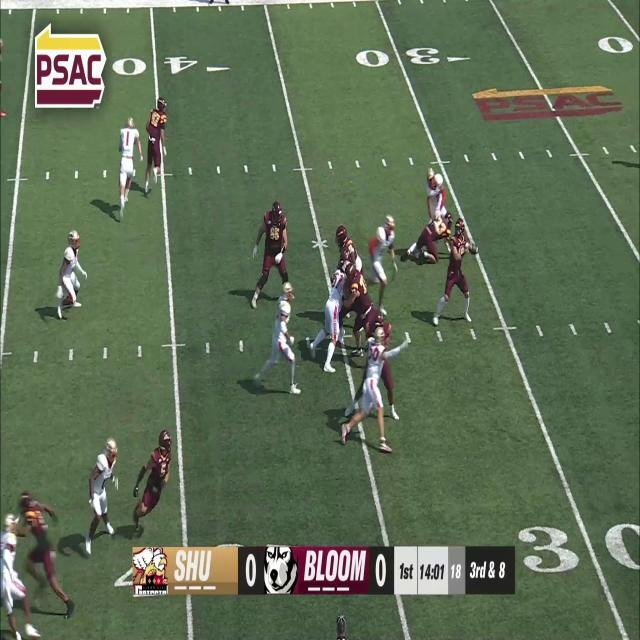football: (466, 239, 479, 256)
